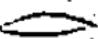Mouth: (1, 12, 96, 37)
